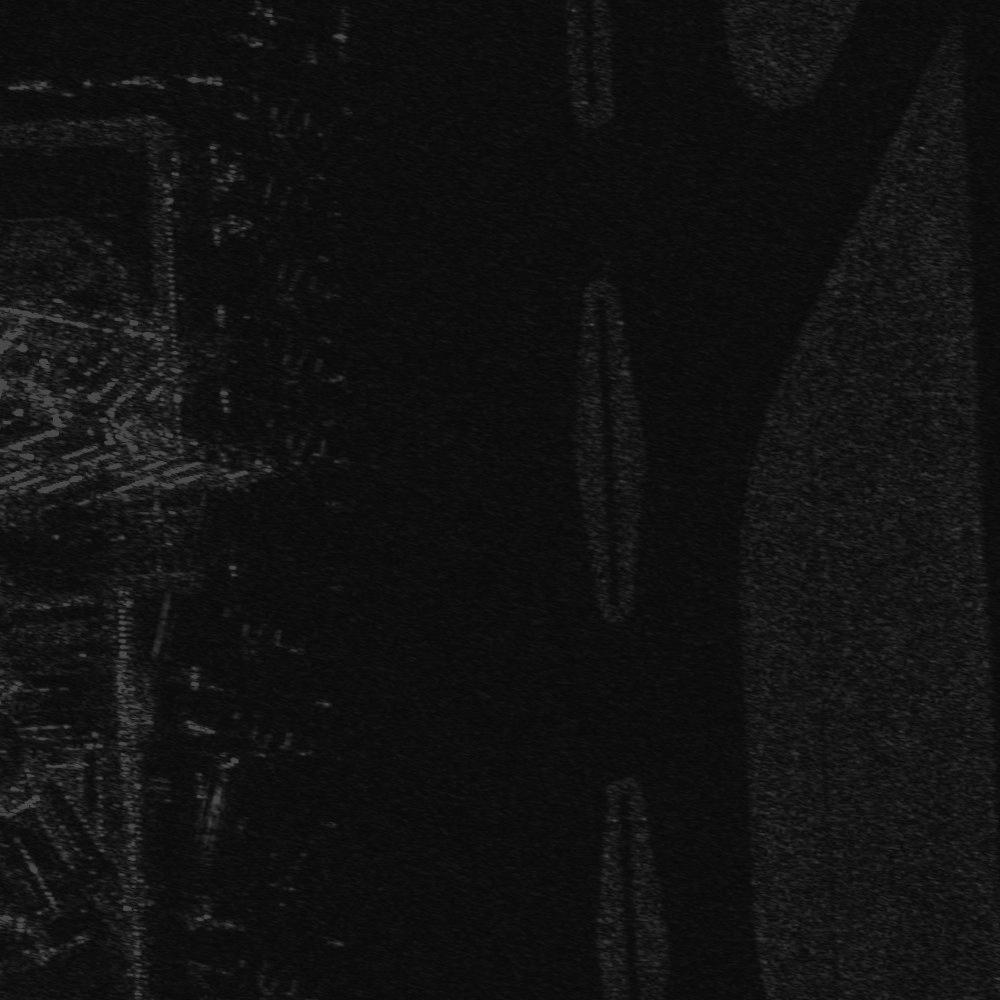A220: (248, 262, 349, 335), (262, 90, 344, 179), (286, 436, 383, 509), (275, 348, 358, 426), (221, 723, 319, 788)
